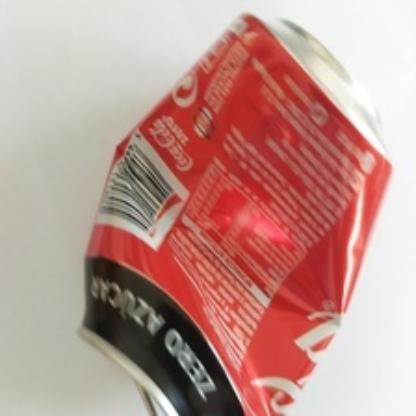Can: (75, 10, 395, 416)
